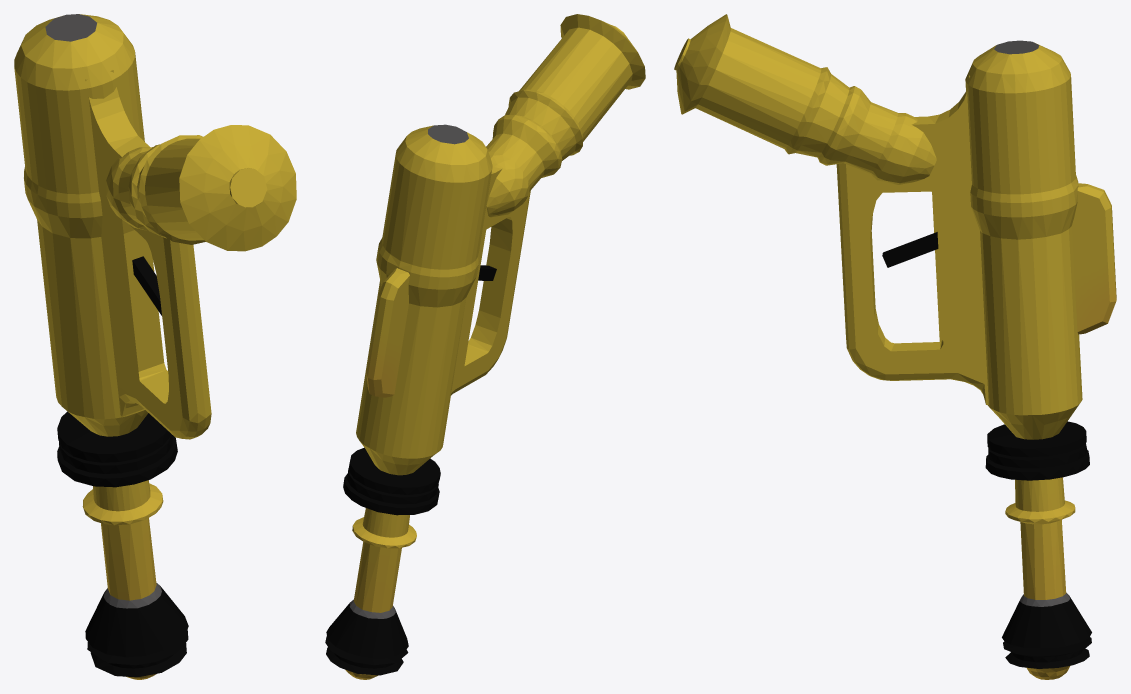
File: BuckRogersGun.fbx
3 views of the same model, side by side, from view 1: azimuth 30°, elevation 25°; view 2: azimuth 150°, elevation 25°; view 3: azimuth 270°, elevation 25° (orthographic). The views are drawn at different scales.
Parts seen in each view (by area): view 1: Cylinder; view 2: Cylinder; view 3: Cylinder.
Boxes of the visible parts, <box> form: Cylinder: <box>14,14,296,679</box>; Cylinder: <box>325,14,645,679</box>; Cylinder: <box>674,14,1116,679</box>.
Bounding box in the file's own units: 0.0556 × 0.1922 × 0.1251.
